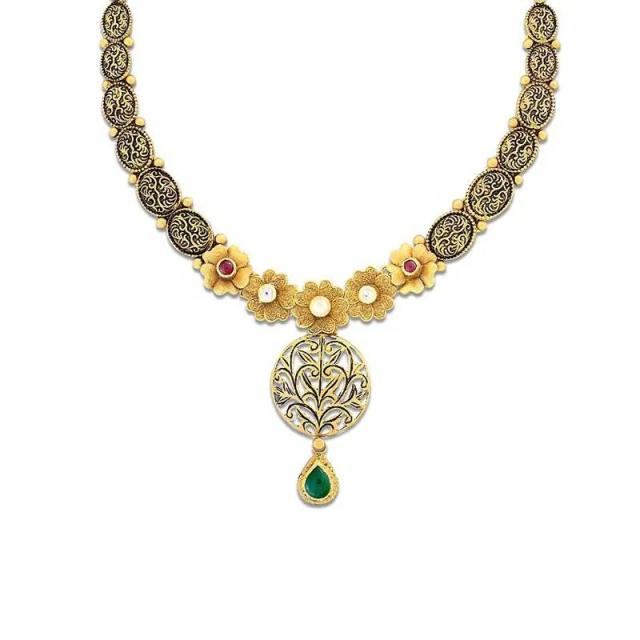missing gem: (312, 299, 328, 315)
